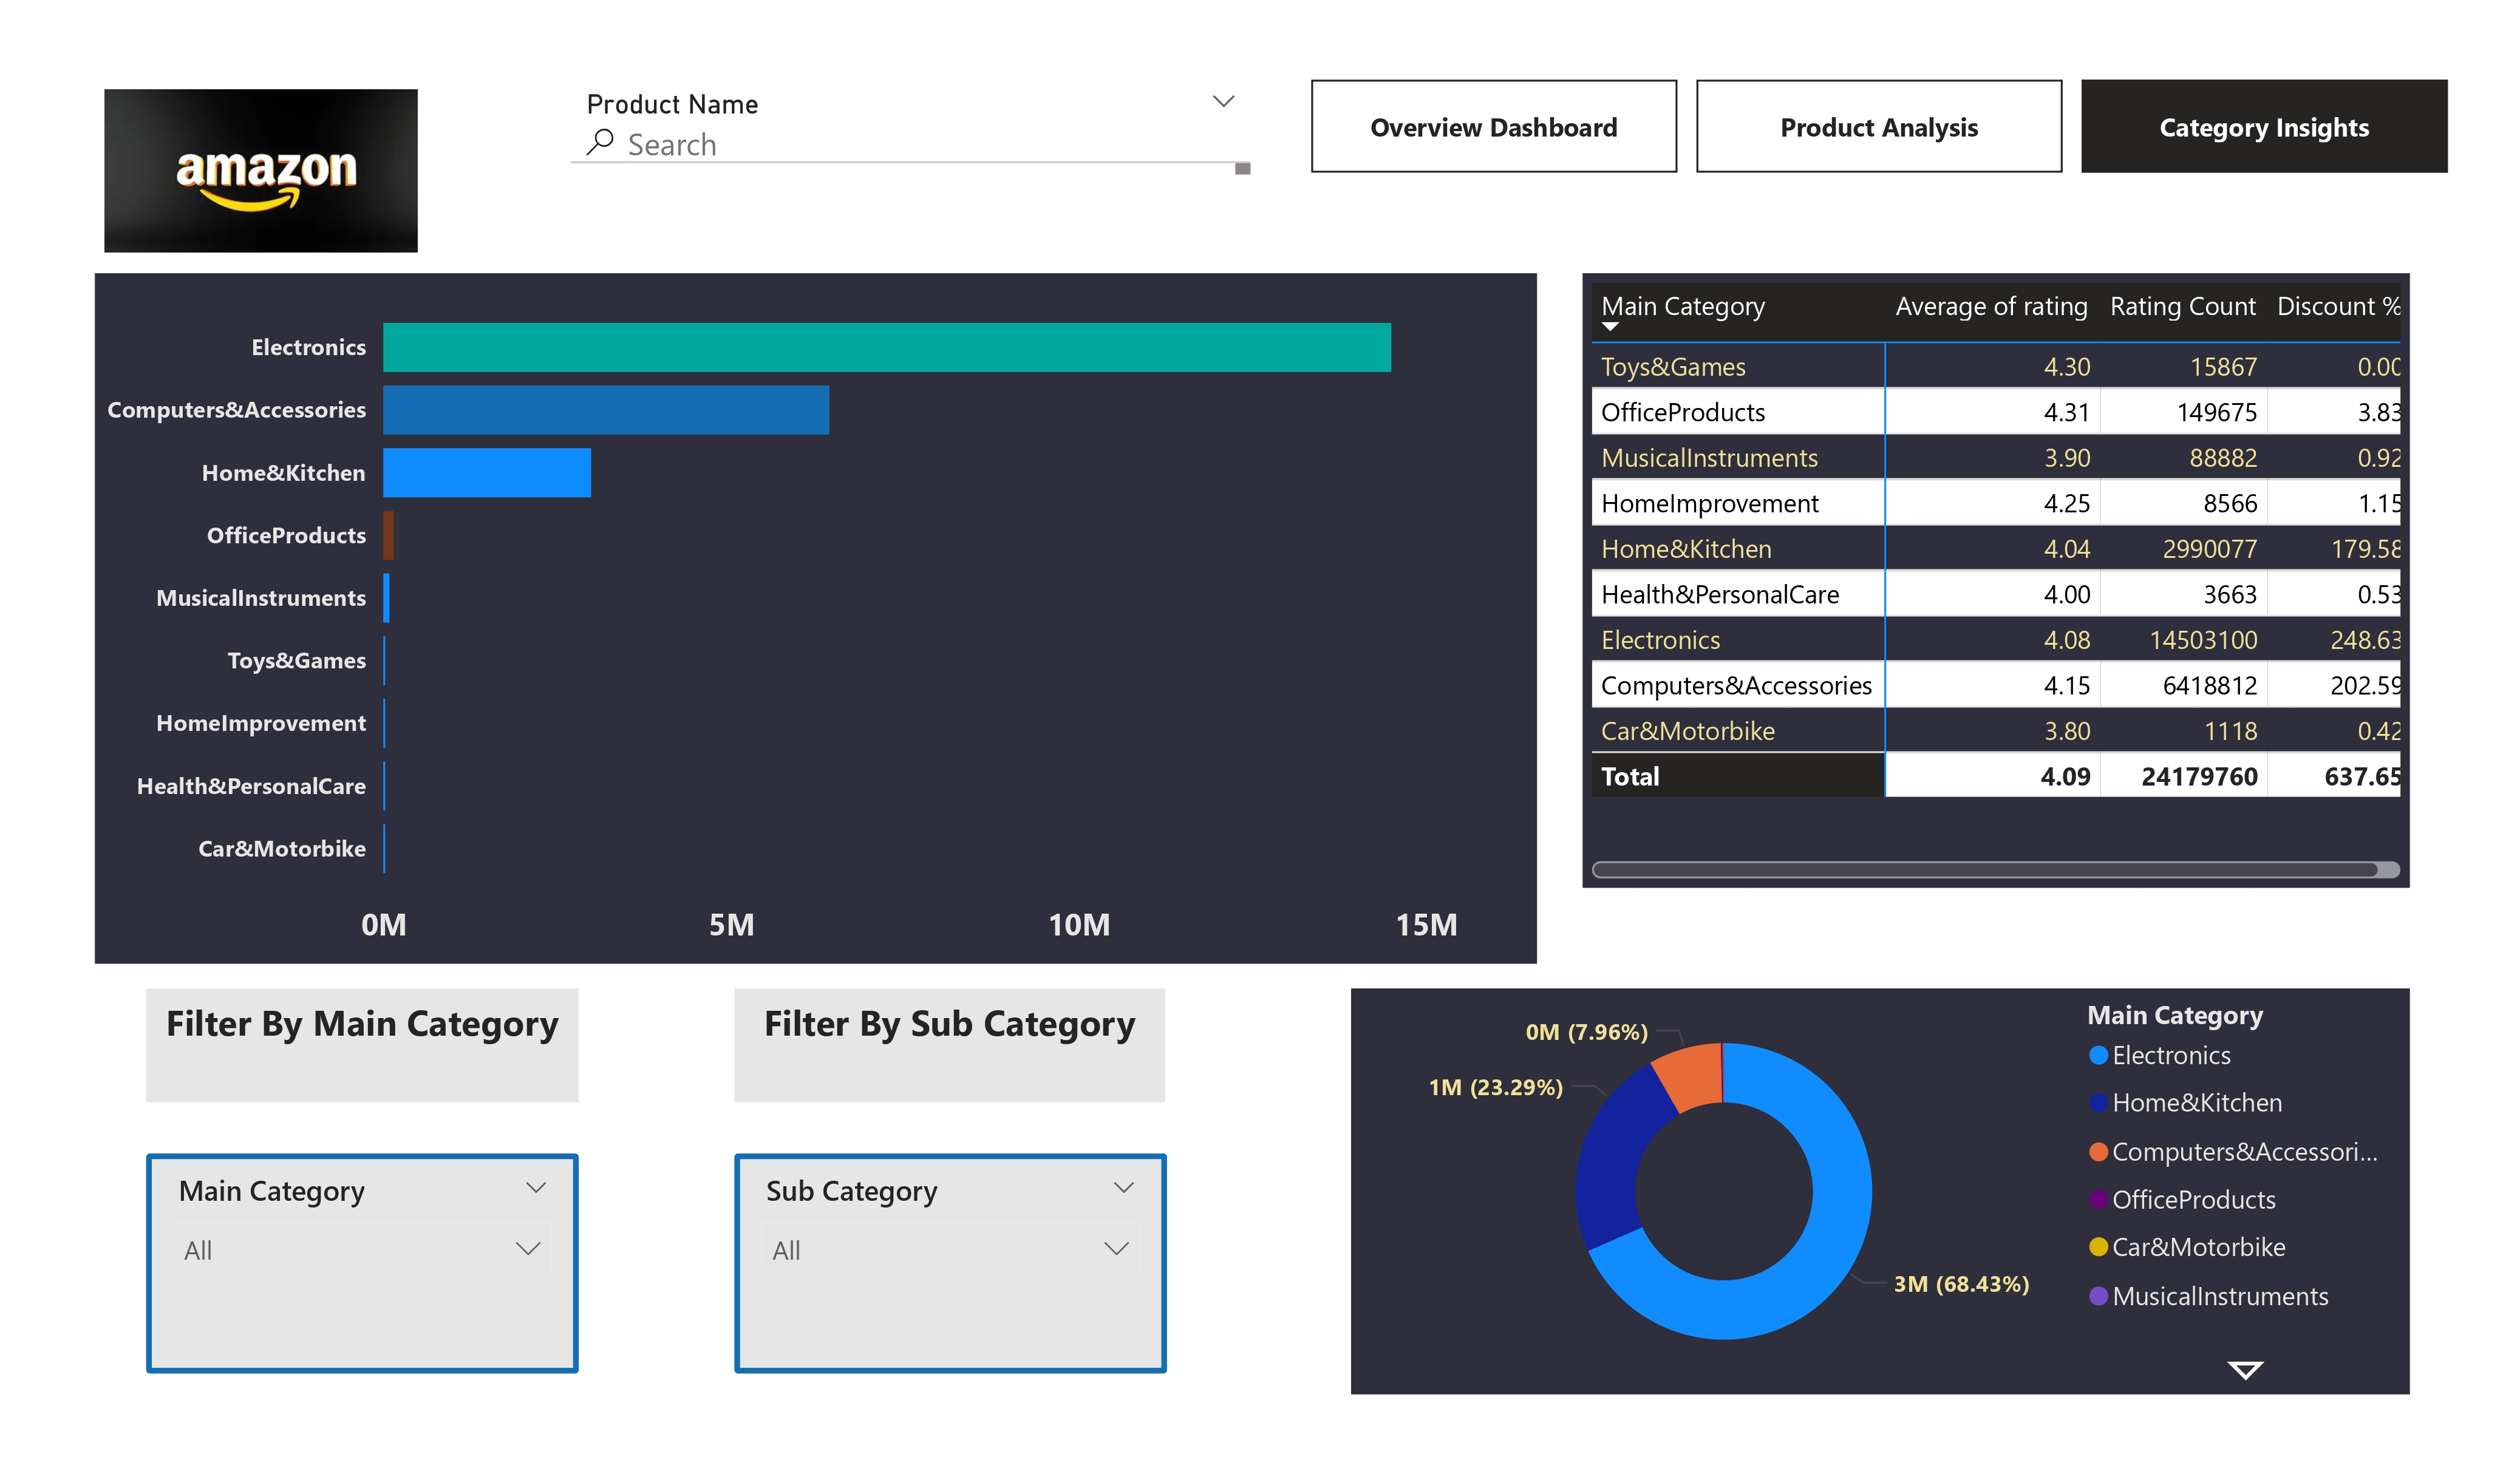

The page's visual inventory and layout, read from the dashboard file:
{"tool":"powerbi","page":{"name":"Category Insights","canvas":[1280,720],"ordinal":2},"visuals":[{"type":"barChart","title":"Top 5 Product","fields":{"Category":["Amazon Sales.Main Category"],"Y":["Amazon Sales.Total Products Sold YTD"]},"box":[25.7,120.3,760.3,364.1],"z":0},{"type":"donutChart","fields":{"Y":["Amazon Sales.Total Discounted Price YTD"],"Category":["Amazon Sales.Main Category"]},"box":[688.1,497.2,558.2,213.3],"z":1000},{"type":"pivotTable","fields":{"Rows":["Amazon Sales.Main Category"],"Values":["Avg(Amazon Sales.rating)","Sum(Amazon Sales.rating_count)","Sum(Amazon Sales.discount_percentage)"]},"box":[810,120.3,436.3,324],"z":2000},{"type":"textbox","box":[52.9,497.2,227.8,59.3],"z":3000},{"type":"textbox","box":[362.5,497.2,227.8,59.3],"z":4000},{"type":"slicer","fields":{"Values":["Amazon Sales.Main Category"]},"box":[52.7,583.9,228.3,115.6],"z":5000},{"type":"slicer","fields":{"Values":["Amazon Sales.Sub Category"]},"box":[362.9,583.9,228.3,115.6],"z":6000},{"type":"pageNavigator","box":[667.3,17.6,600,49.8],"z":6001},{"type":"slicer","fields":{"Values":["Amazon Sales.product_name"]},"box":[272.2,17.6,367.3,55.6],"z":6002},{"type":"image","box":[0,17.6,226.8,96.6],"z":6003}]}

Visuals, with their boxes in screenshot pixels (x1, y1, x2, y2):
"Top 5 Product" barChart: 107:271:1531:953
donutChart - Amazon Sales.Total Discounted Price YTD x Amazon Sales.Main Category: 1347:977:2393:1376
pivotTable - Amazon Sales.Main Category x Avg(Amazon Sales.rating): 1576:271:2393:878
textbox: 158:977:585:1088
textbox: 738:977:1165:1088
slicer - Amazon Sales.Main Category: 158:1139:585:1356
slicer - Amazon Sales.Sub Category: 738:1139:1166:1356
pageNavigator: 1309:79:2433:172
slicer - Amazon Sales.product_name: 569:79:1257:183
image: 59:79:484:260
